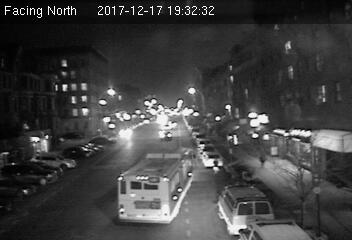bus: (114, 145, 198, 224)
car: (202, 152, 222, 167), (158, 130, 173, 140)
police: (215, 184, 274, 235)
